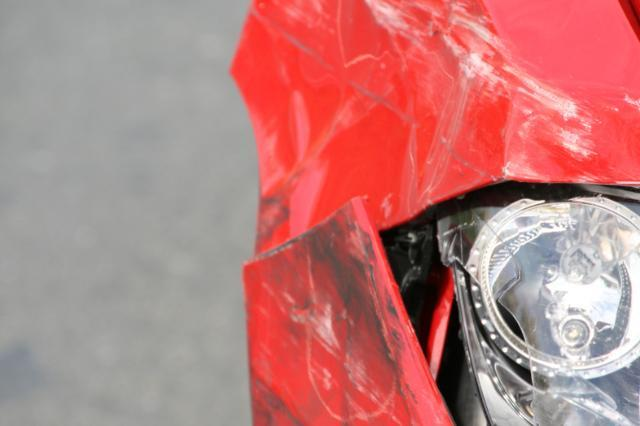Bumper: (243, 216, 425, 426)
Fender: (234, 0, 640, 215)
Light: (410, 199, 640, 426)
